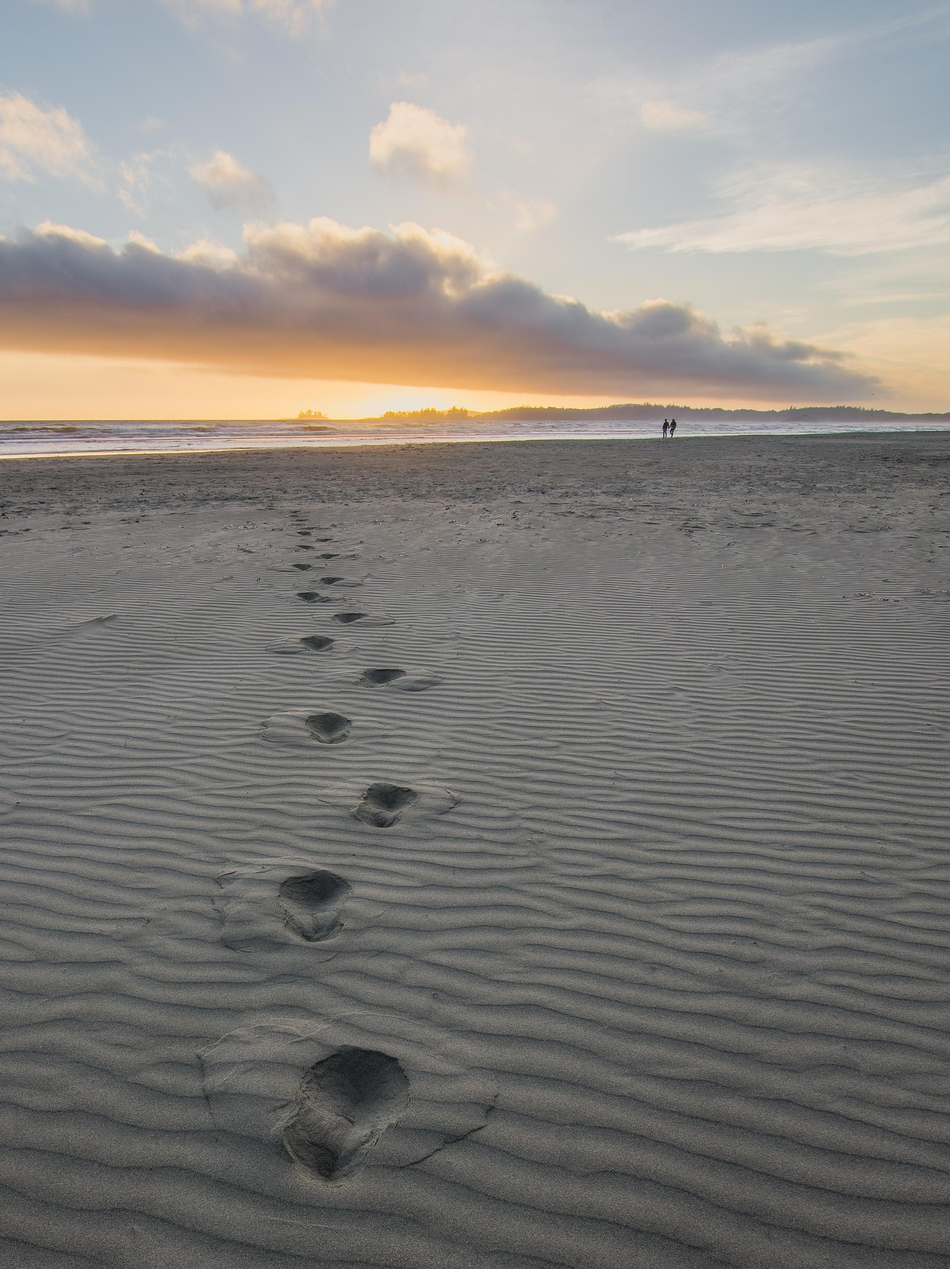human_footprint: (198, 1011, 496, 1183), (283, 1046, 409, 1180), (213, 862, 352, 951), (317, 778, 460, 828), (278, 869, 351, 942), (260, 709, 353, 747), (352, 781, 418, 827), (360, 668, 442, 691), (304, 712, 352, 744), (266, 634, 335, 654), (331, 609, 392, 627), (362, 668, 405, 685), (319, 572, 362, 587), (299, 634, 334, 652), (297, 590, 334, 603), (319, 574, 346, 585), (292, 562, 317, 571), (318, 551, 338, 559)
